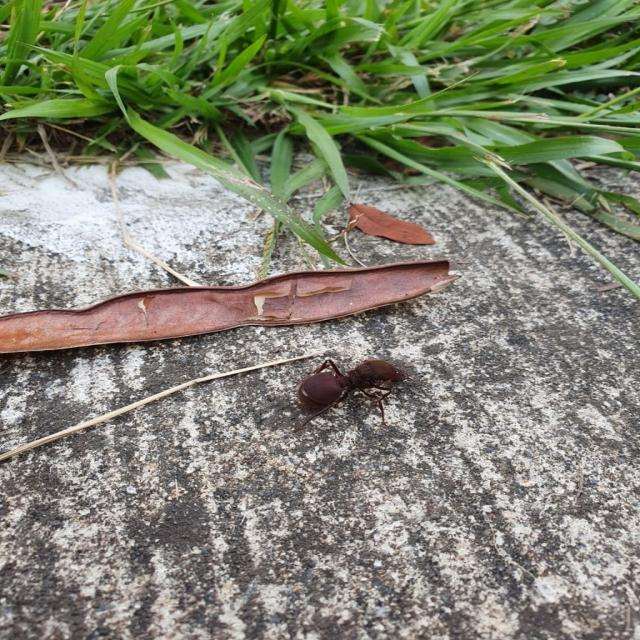Alive-Female-Dealate: (293, 357, 407, 428)
